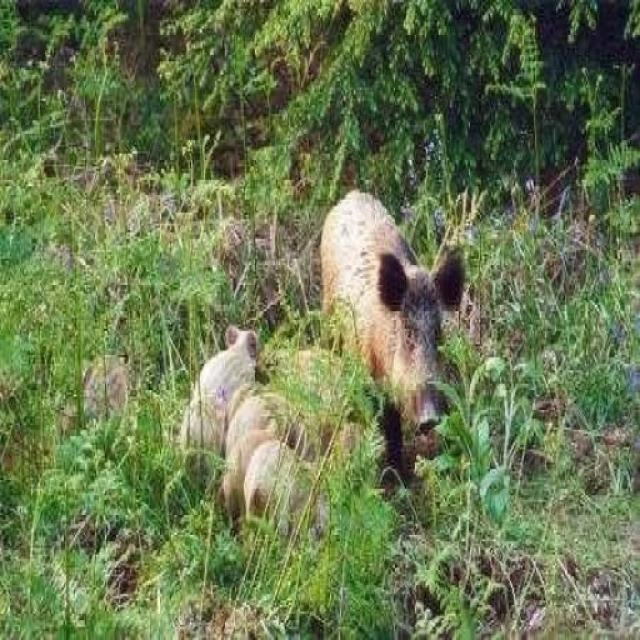pig: (267, 179, 529, 475), (173, 291, 264, 432), (242, 429, 295, 525), (215, 368, 266, 457)
